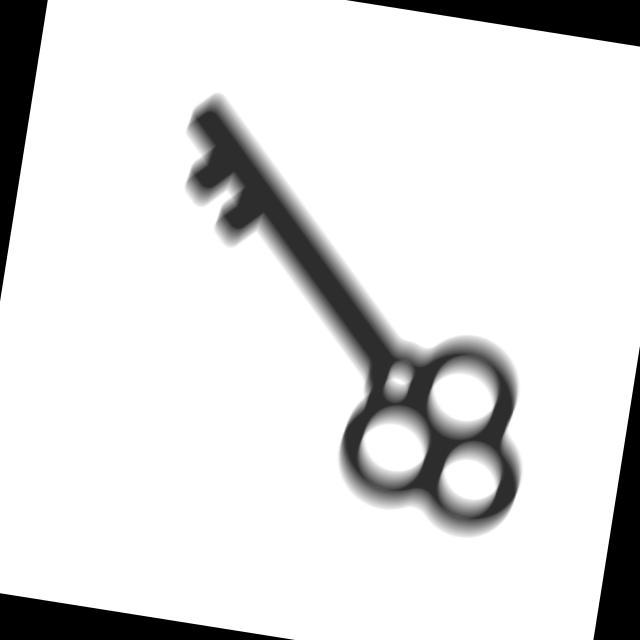key: (120, 81, 580, 554)
